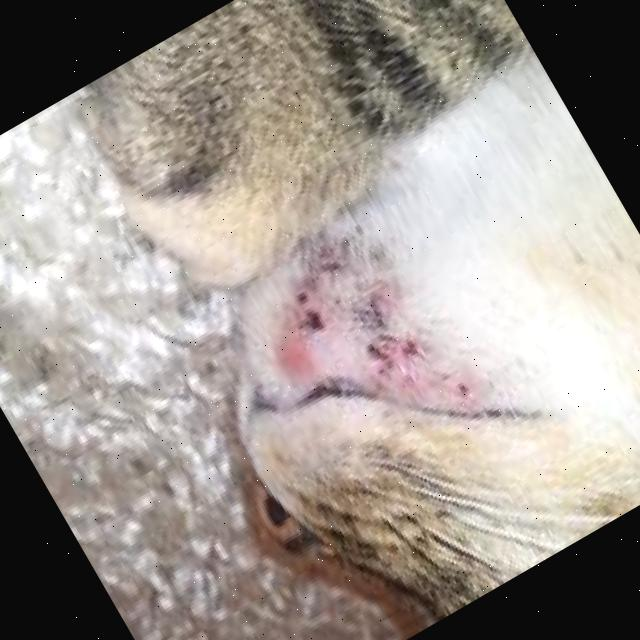cat-acne: (355, 280, 405, 332), (354, 329, 398, 377), (292, 300, 336, 346), (283, 276, 324, 318), (447, 370, 481, 407), (395, 331, 428, 367)
